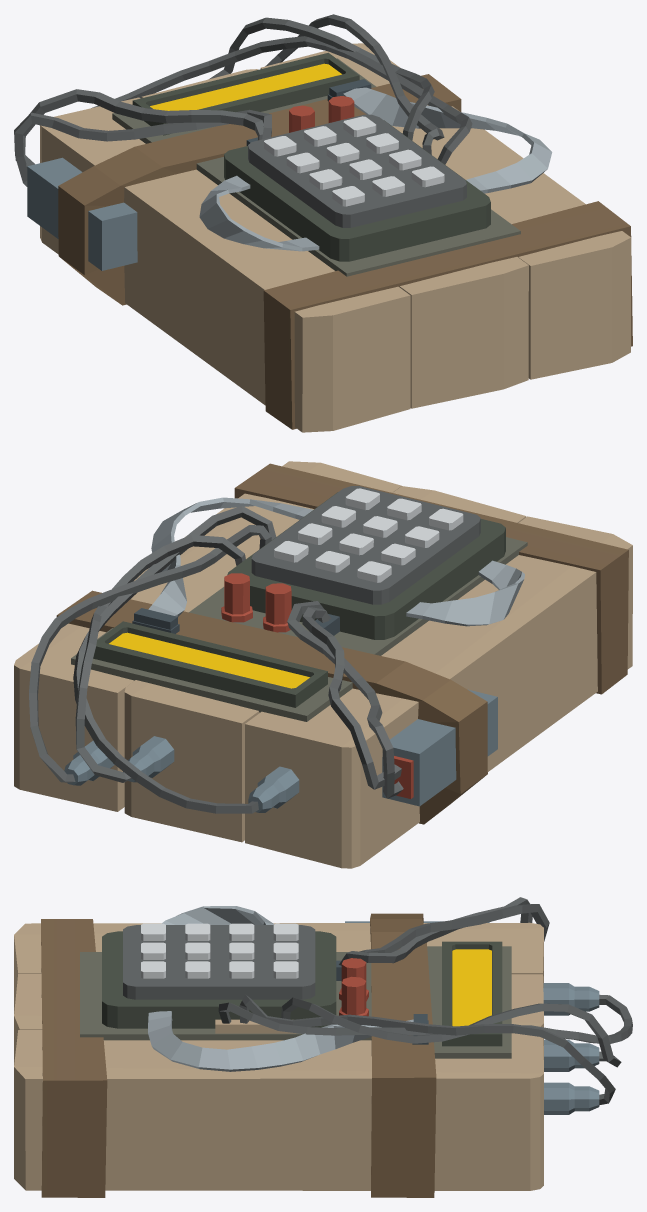
The model's file is SM_TimeBomb_01.fbx.
3 renders of one model, top to bottom at view 1: azimuth 30°, elevation 25°; view 2: azimuth 150°, elevation 25°; view 3: azimuth 270°, elevation 25°, orthographic. The views are drawn at different scales.
Parts seen in each view (by area): view 1: SM_TimeBomb_01; view 2: SM_TimeBomb_01; view 3: SM_TimeBomb_01.
Boxes of the visible parts, left/top/right/bottom form: SM_TimeBomb_01: left=14, top=14, right=632, bottom=432; SM_TimeBomb_01: left=14, top=461, right=632, bottom=868; SM_TimeBomb_01: left=14, top=897, right=632, bottom=1197.
Bounding box in the file's own units: 7.96 × 3.35 × 11.49.
1 material, 1 textured.
